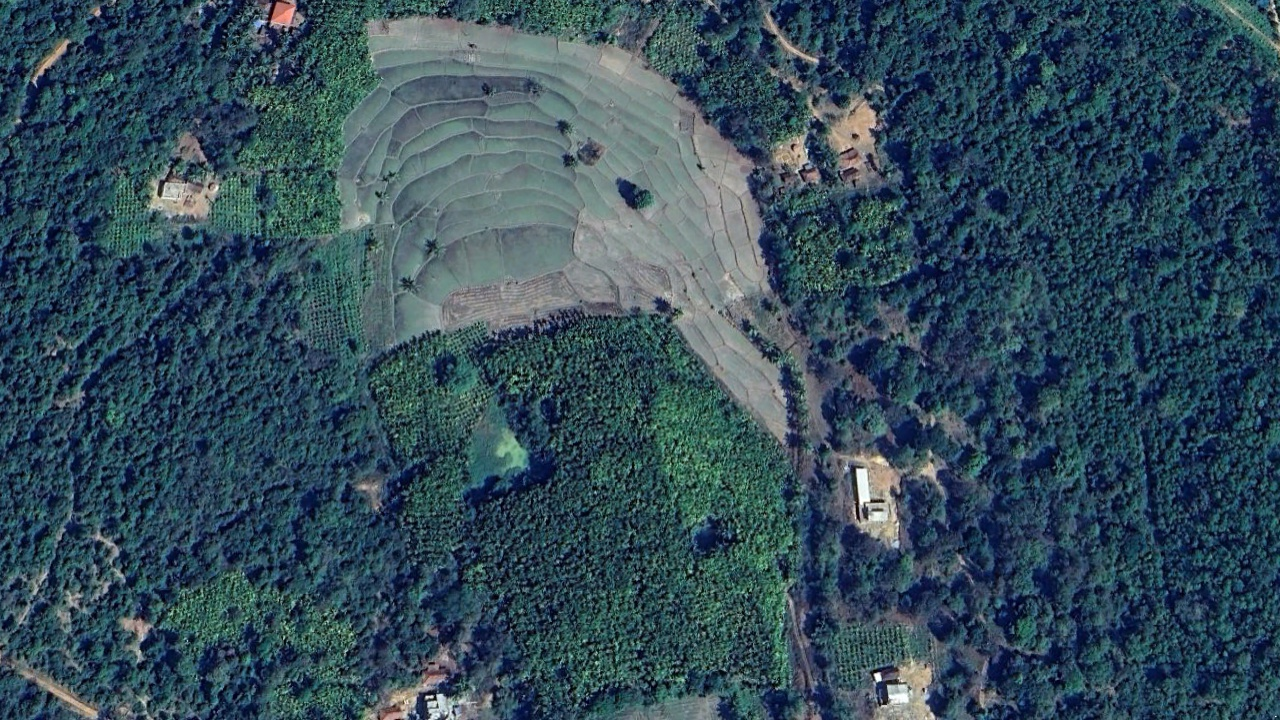arecanut: (468, 287, 808, 703), (238, 4, 370, 163), (155, 570, 262, 649), (265, 658, 363, 720)
